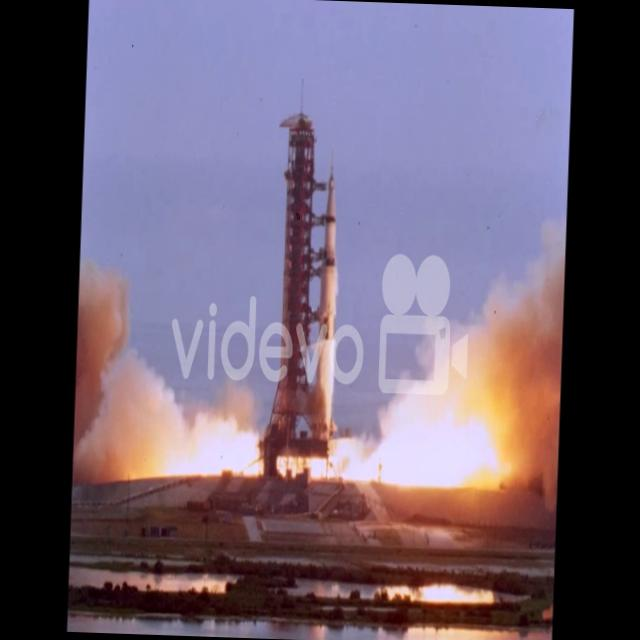rocket: (310, 159, 349, 452)
